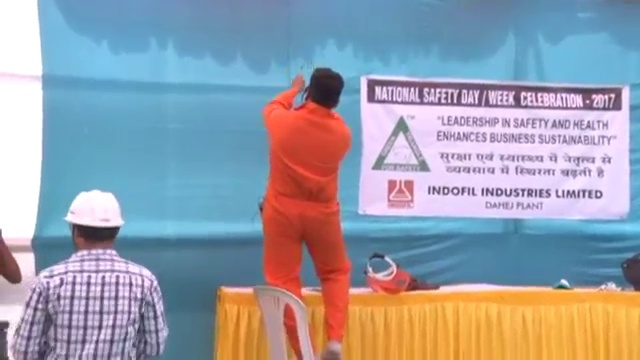helmet: (63, 188, 126, 228)
helmet_off: (307, 66, 344, 110)
helmet_on: (61, 187, 126, 254)
person: (6, 187, 170, 360), (262, 66, 358, 359)
